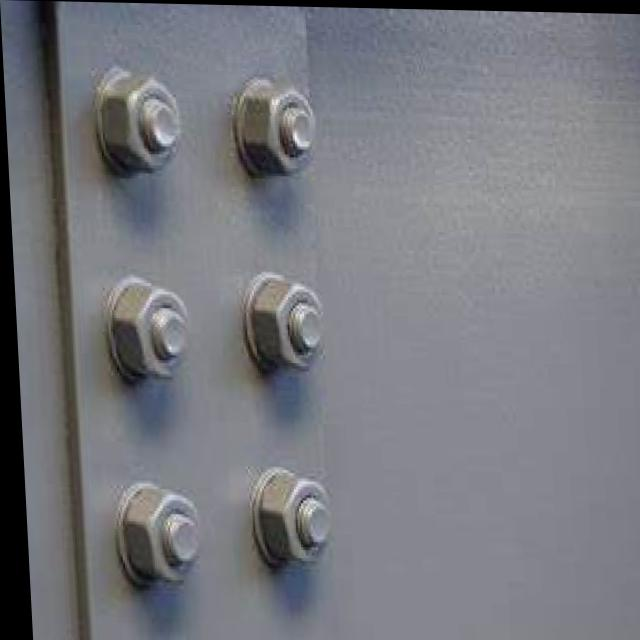Regular bolt: (99, 70, 182, 176), (110, 281, 188, 382), (117, 489, 197, 584), (240, 82, 317, 175), (248, 277, 325, 370), (256, 472, 327, 567)
